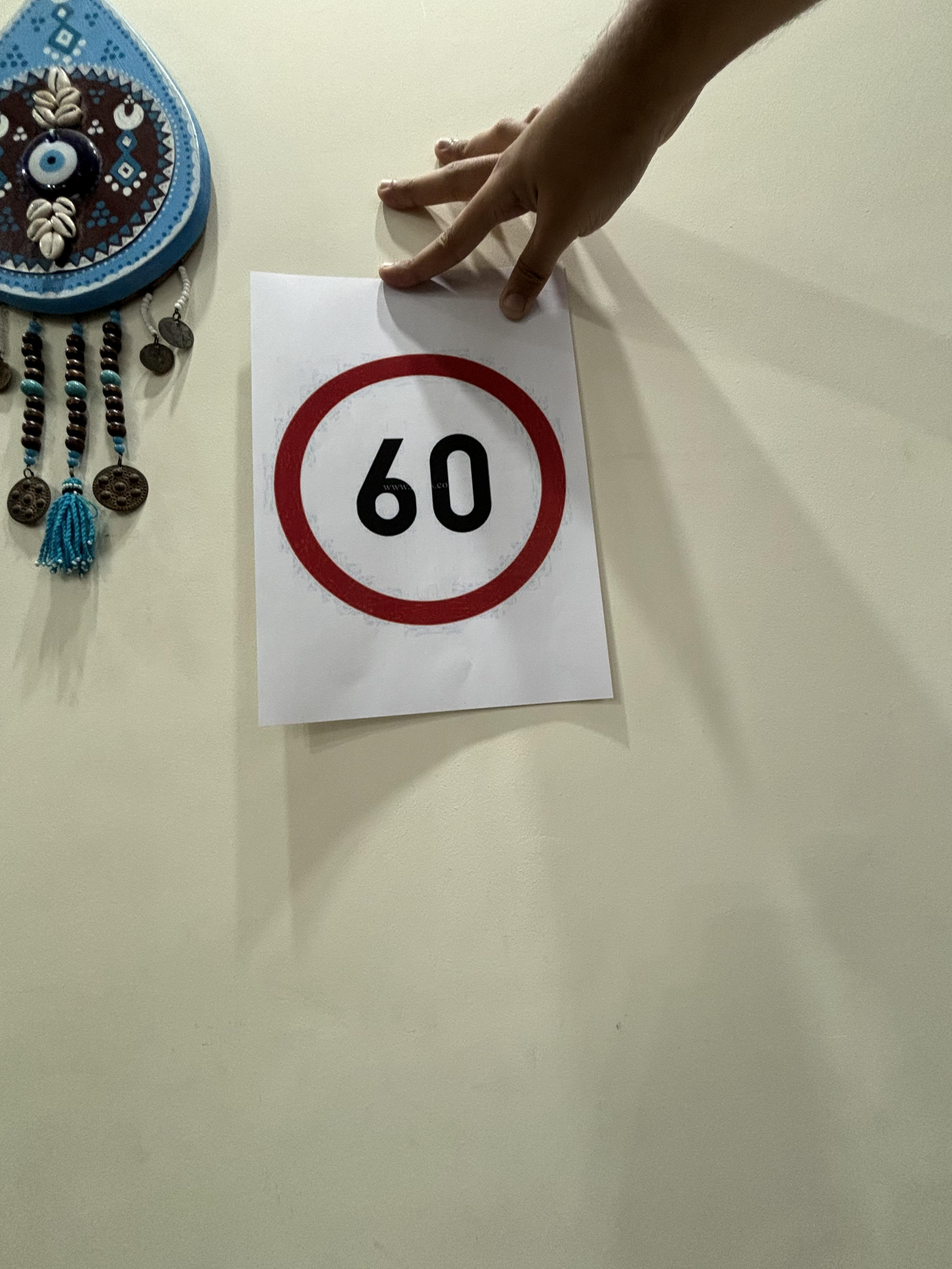60-Speed: (265, 347, 573, 629)
